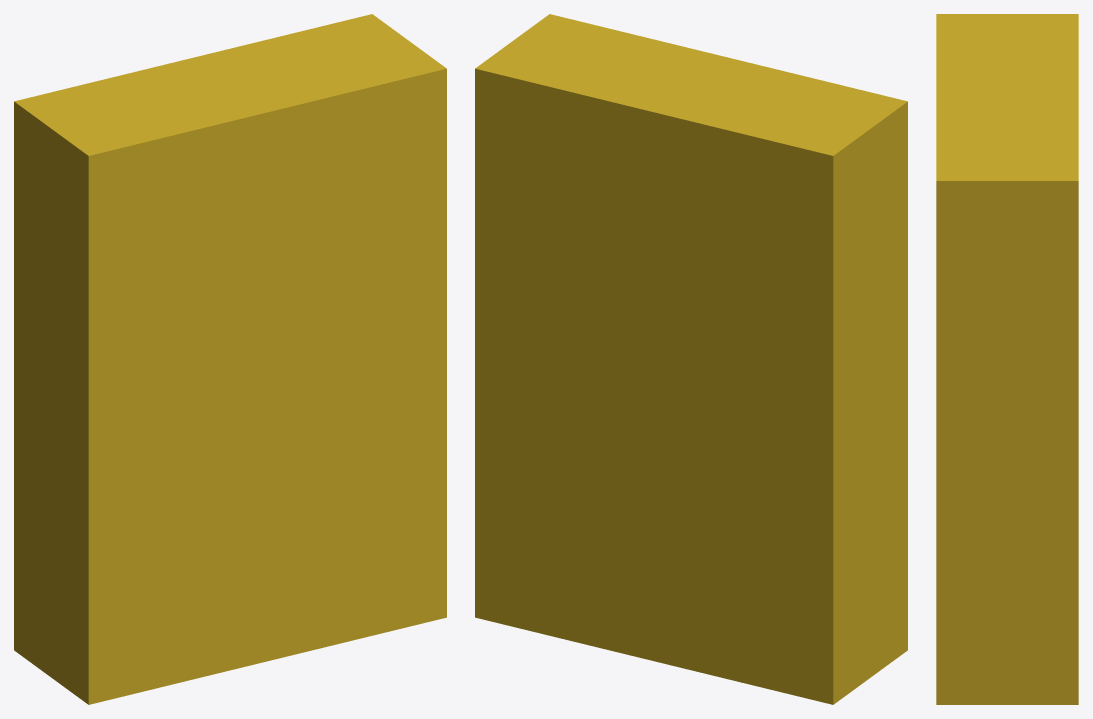
File: lightbulb.obj
3 views of the same model, side by side, from view 1: azimuth 30°, elevation 25°; view 2: azimuth 150°, elevation 25°; view 3: azimuth 270°, elevation 25° (orthographic). The views are drawn at different scales.
Parts seen in each view (by area): view 1: lampWall.001; view 2: lampWall.001; view 3: lampWall.001.
Part boxes in pixels (left/top/right/bottom): lampWall.001: left=14, top=14, right=446, bottom=704; lampWall.001: left=475, top=14, right=907, bottom=704; lampWall.001: left=936, top=14, right=1078, bottom=704.
Bounding box in the file's own units: 0.2984 × 0.437 × 0.1077.
